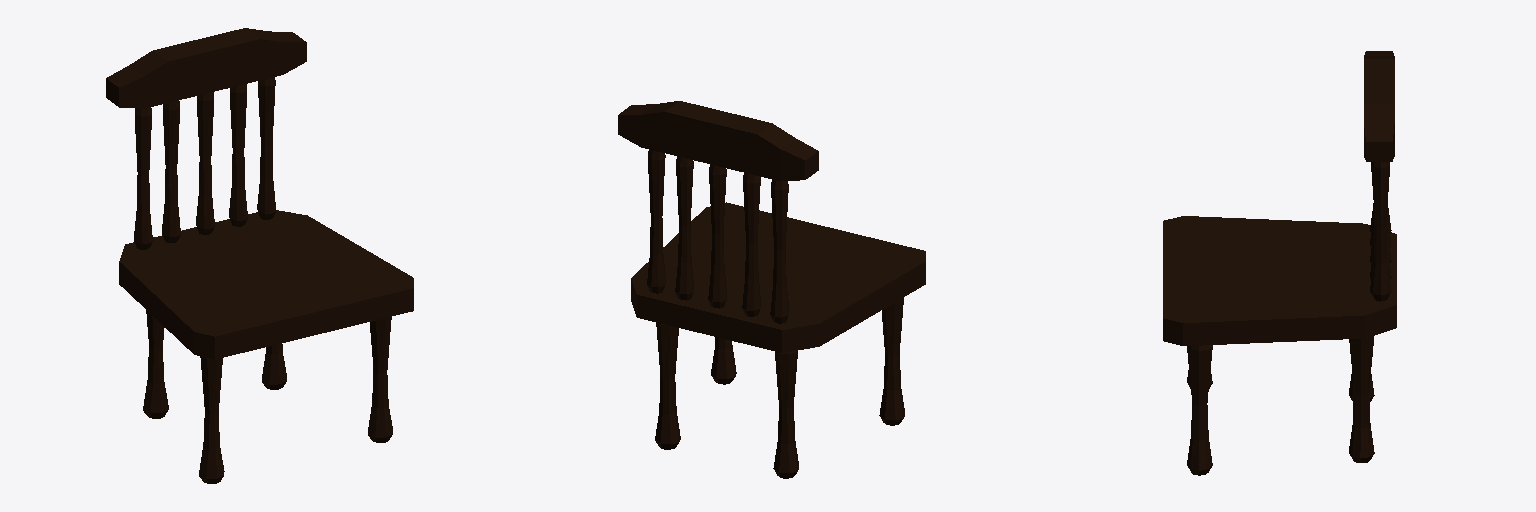
The model's file is chairtexture.obj.
3 views of the same model, side by side, from view 1: azimuth 30°, elevation 25°; view 2: azimuth 150°, elevation 25°; view 3: azimuth 270°, elevation 25° (orthographic).
Visible parts, largest first — view 1: chair_base chair, chair backbar1 backbar2 backbar3 backbar4 backbar5, chair backtop, chair leg1 leg2 leg3 leg4; view 2: chair_base chair, chair backbar1 backbar2 backbar3 backbar4 backbar5, chair backtop, chair leg1 leg2 leg3 leg4; view 3: chair_base chair, chair leg1 leg2 leg3 leg4, chair backtop, chair backbar1 backbar2 backbar3 backbar4 backbar5.
Boxes of the visible parts, x1=… form: chair_base chair: x1=119, y1=210, x2=413, y2=359; chair backbar1 backbar2 backbar3 backbar4 backbar5: x1=134, y1=77, x2=275, y2=249; chair backtop: x1=106, y1=28, x2=306, y2=108; chair leg1 leg2 leg3 leg4: x1=143, y1=310, x2=392, y2=483; chair_base chair: x1=631, y1=202, x2=925, y2=352; chair backbar1 backbar2 backbar3 backbar4 backbar5: x1=647, y1=150, x2=788, y2=323; chair backtop: x1=618, y1=101, x2=818, y2=180; chair leg1 leg2 leg3 leg4: x1=655, y1=298, x2=904, y2=478; chair_base chair: x1=1163, y1=216, x2=1396, y2=345; chair leg1 leg2 leg3 leg4: x1=1187, y1=336, x2=1374, y2=475; chair backtop: x1=1364, y1=51, x2=1394, y2=161; chair backbar1 backbar2 backbar3 backbar4 backbar5: x1=1370, y1=162, x2=1391, y2=301.
Bounding box in the file's own units: 1.64 × 2.49 × 1.51.